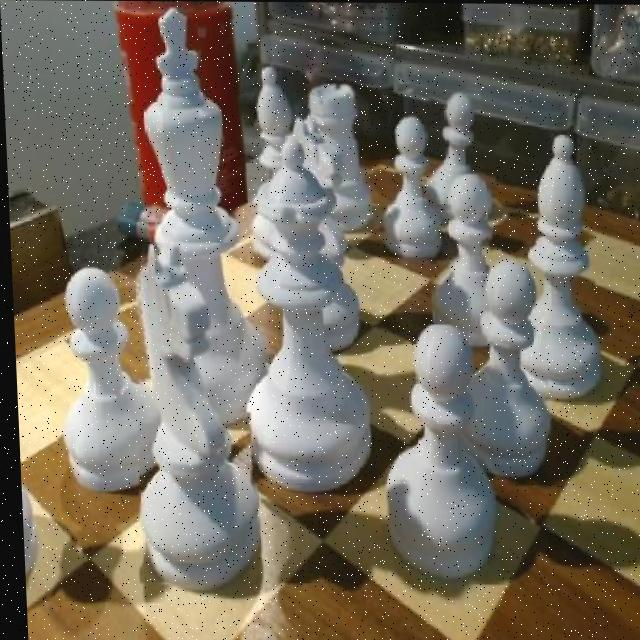black-rook: (493, 131, 598, 400), (236, 63, 298, 262)
white-bishop: (142, 5, 262, 412)
white-king: (125, 244, 259, 590)
white-knight: (374, 324, 492, 580), (49, 265, 150, 491), (450, 255, 549, 473), (421, 174, 493, 339), (373, 117, 443, 262), (423, 87, 477, 223)
white-pawn: (243, 139, 368, 487)
white-queen: (304, 79, 368, 227), (307, 209, 355, 354)
